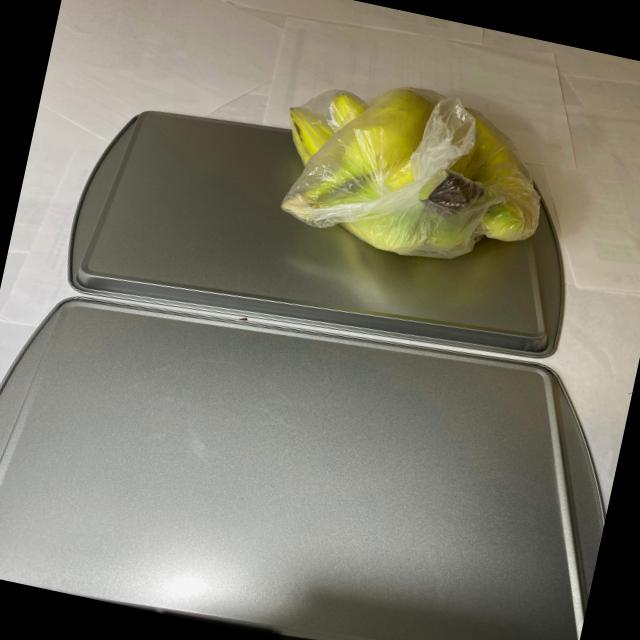banana: (261, 59, 568, 290)
